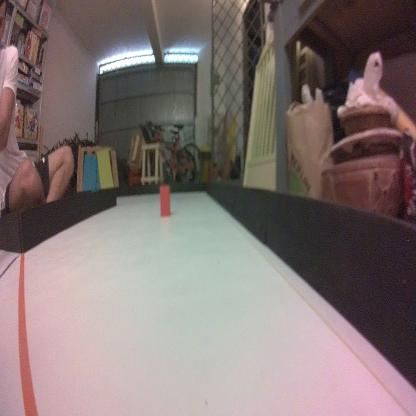red: (158, 183, 171, 218)
